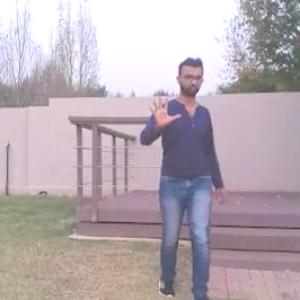follow_hand: (144, 87, 182, 130)
